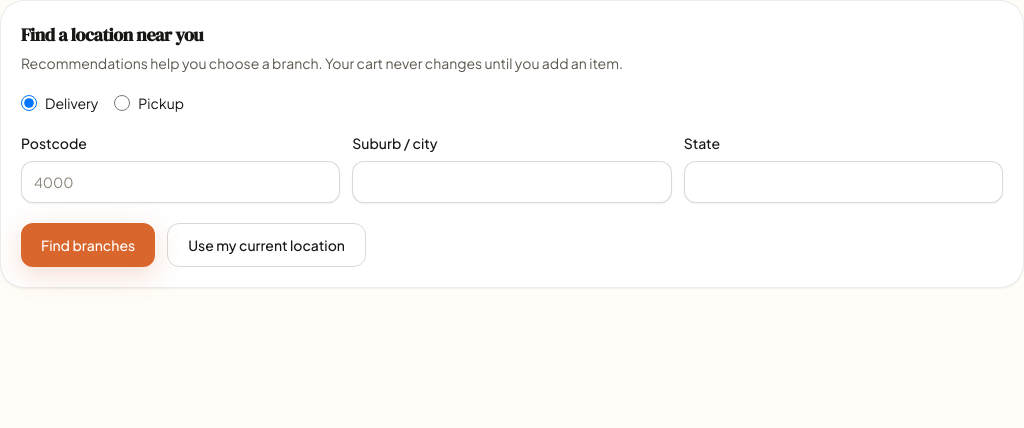
Test case: CustomerLocationSelector › requests browser location only after explicit consent click
Click the button "Use my current location" at (266, 245), box x1=167 y1=223 x2=366 y2=267
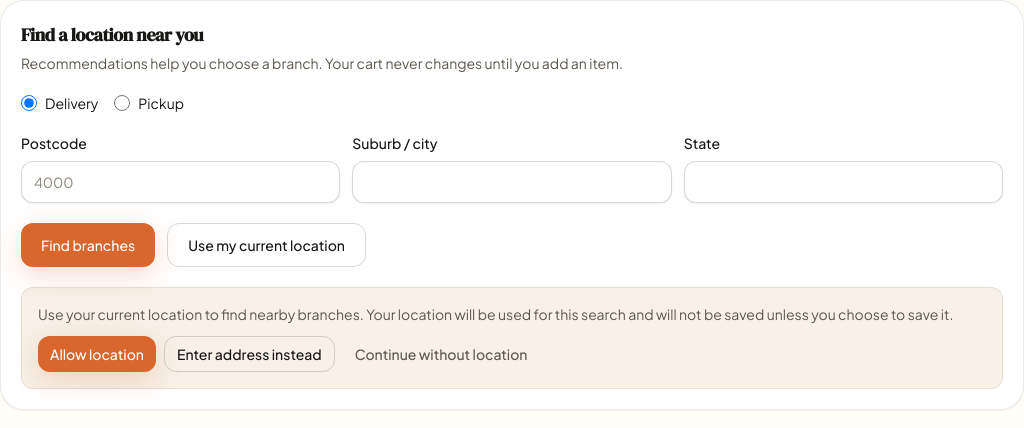
Expected: the text "will not be saved unless you choose to save it" is shown, x1=38 y1=305 x2=953 y2=323
Click the button "Allow location" at (97, 354), box x1=38 y1=336 x2=156 y2=372
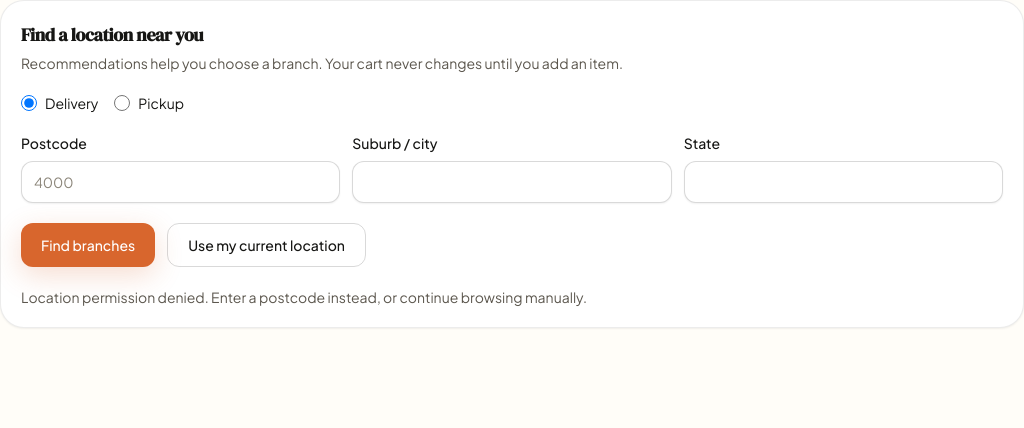
Expected: the text "Location permission denied" is shown, x1=21 y1=288 x2=587 y2=306
